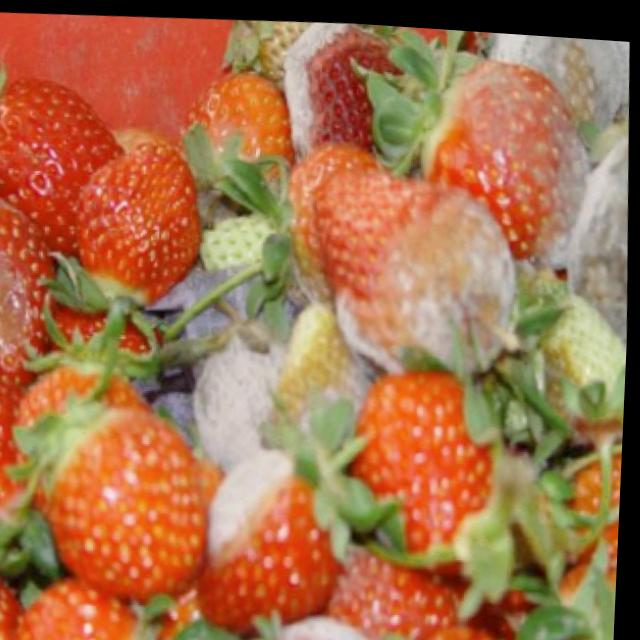Gray Mold: (315, 157, 519, 369), (418, 45, 592, 263), (200, 446, 345, 631), (281, 16, 439, 161), (490, 26, 628, 152), (193, 323, 283, 472), (563, 130, 629, 331), (0, 196, 53, 385), (257, 617, 382, 640)
